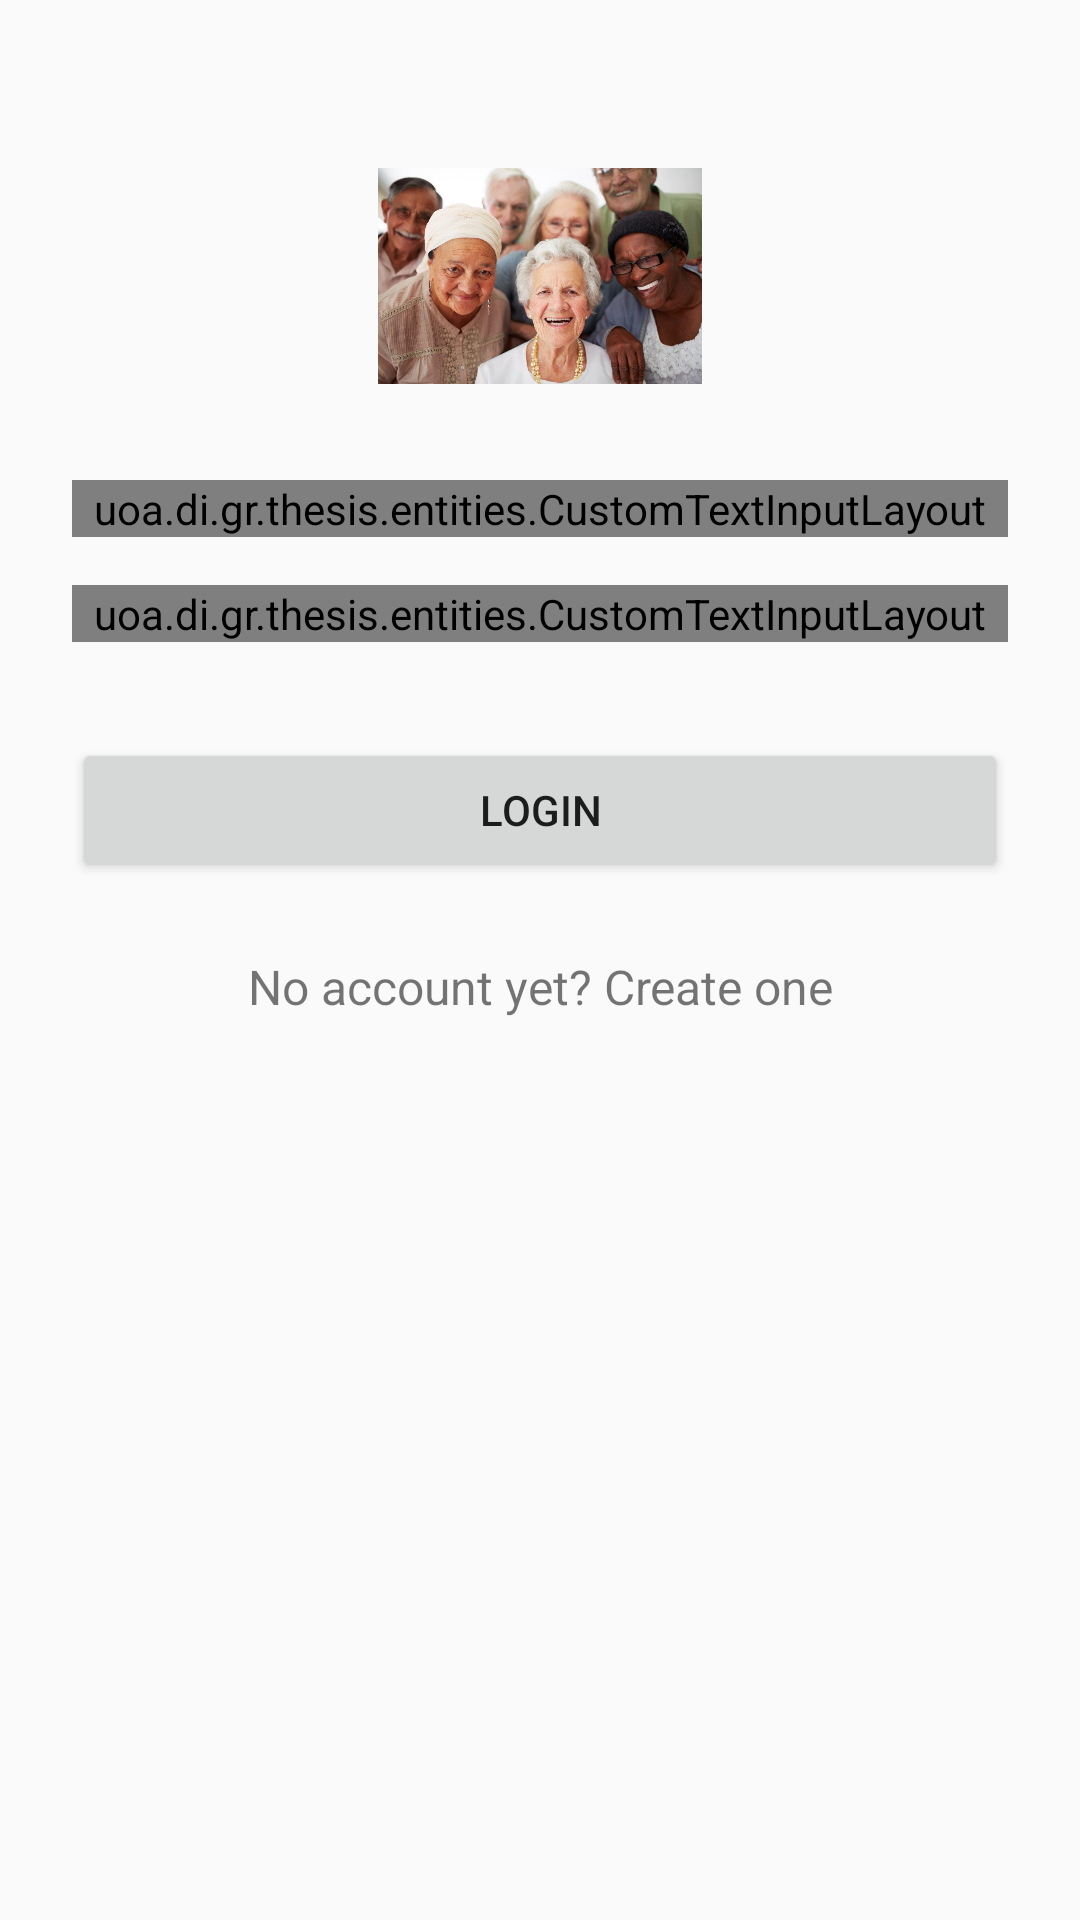

Locate icon controls on the screen. Image size 1080×1920, boxes as (x1, y1, x2, y2).
elderly: (378, 168, 702, 384)
